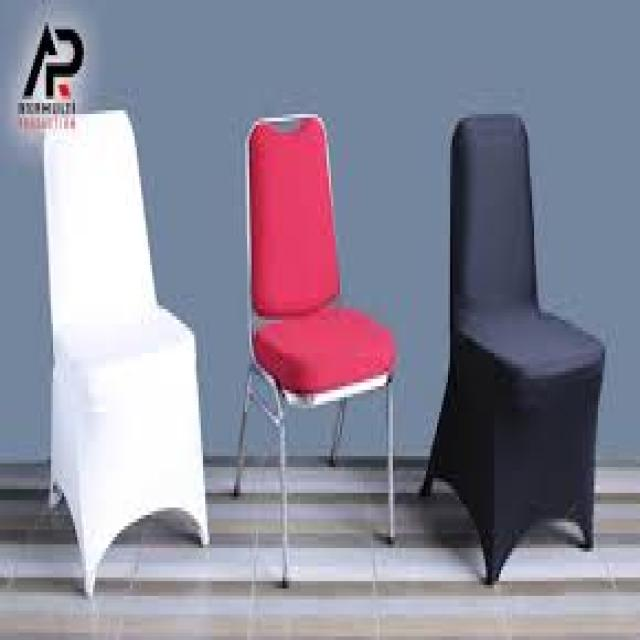chair: (419, 110, 606, 597), (229, 119, 397, 590), (48, 117, 206, 597)
